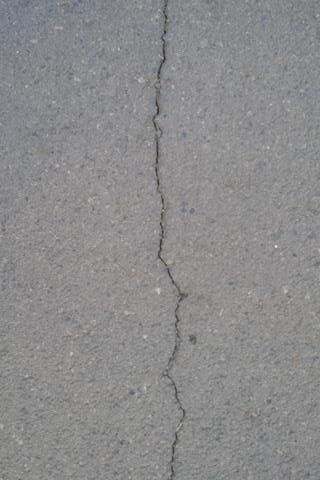A: (150, 2, 190, 480)
